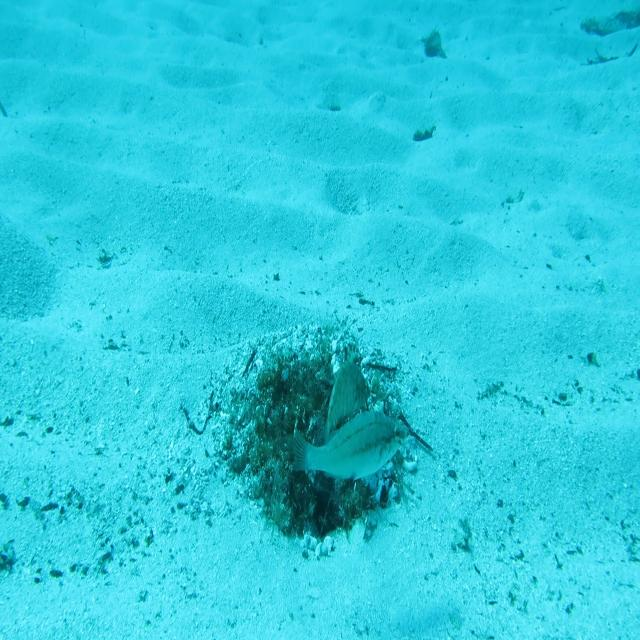MAN: (319, 348, 372, 448)
core_nest: (285, 371, 330, 413)
female: (290, 406, 410, 488)
nest: (212, 320, 426, 574)
vegetation: (424, 31, 446, 62), (414, 124, 436, 144)
